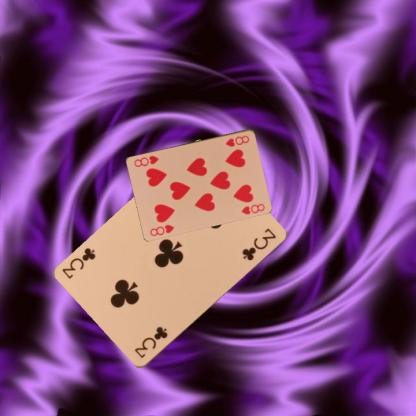3c: (131, 324, 169, 360)
8h: (223, 132, 251, 148), (147, 222, 176, 237)
